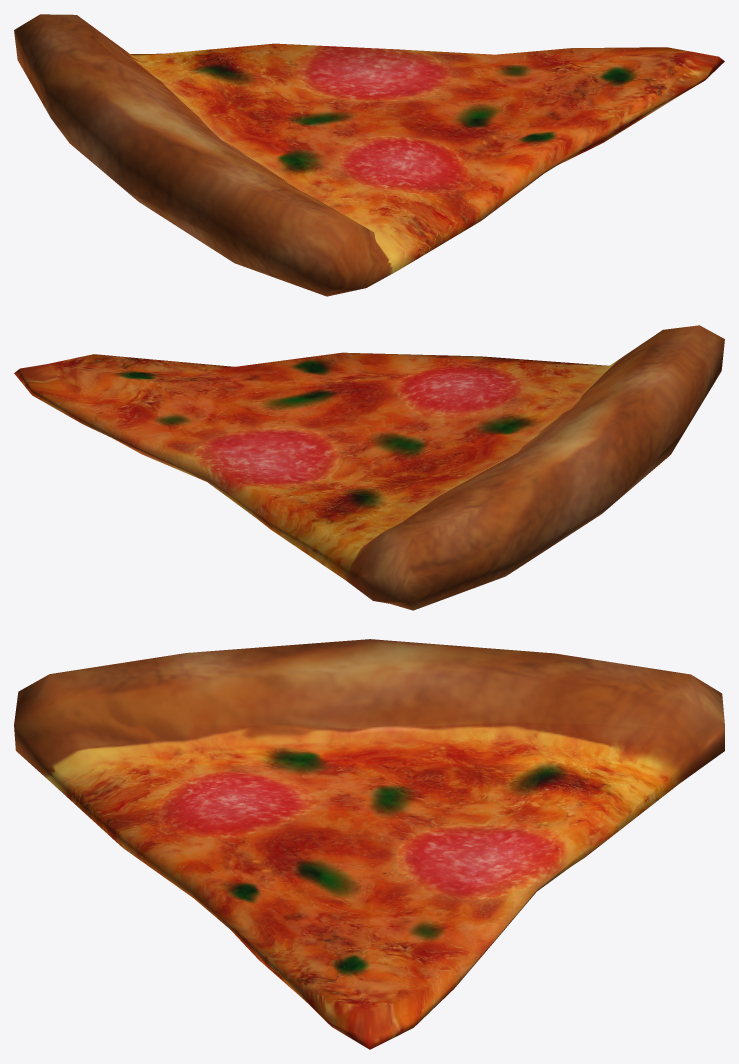
File: PizzaFBX.FBX
The picture shows the model from 3 angles, top to bottom: view 1: azimuth 30°, elevation 25°; view 2: azimuth 150°, elevation 25°; view 3: azimuth 270°, elevation 25°; orthographic projection. The views are drawn at different scales.
Parts seen in each view (by area): view 1: Box002; view 2: Box002; view 3: Box002.
Boxes of the visible parts, left/top/right/bottom form: Box002: left=14, top=14, right=724, bottom=296; Box002: left=14, top=325, right=724, bottom=610; Box002: left=14, top=639, right=724, bottom=1049.
Size of the model in its own units: 1055 by 155 by 967.
1 material, 1 textured.
